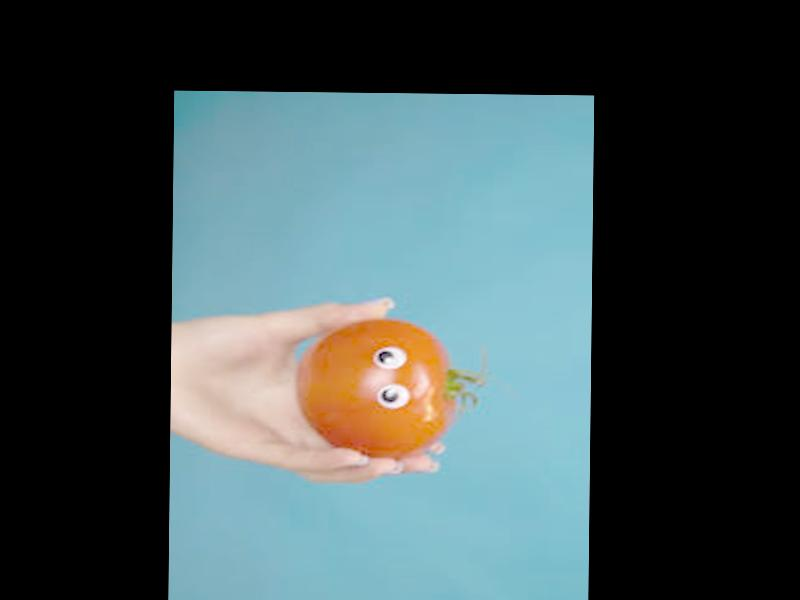Tomato: (294, 316, 458, 460)
